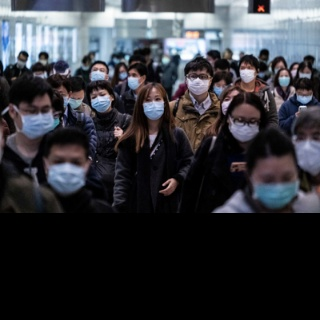with_mask: (252, 168, 299, 211), (46, 153, 85, 196), (17, 102, 53, 139), (294, 129, 320, 175), (229, 113, 259, 143), (142, 94, 164, 120), (188, 71, 210, 96), (91, 90, 112, 112), (240, 64, 256, 84), (127, 71, 141, 91), (90, 66, 105, 82), (68, 95, 84, 109), (297, 90, 312, 104), (213, 82, 227, 97), (279, 73, 292, 88), (117, 68, 127, 79), (300, 71, 312, 80)
